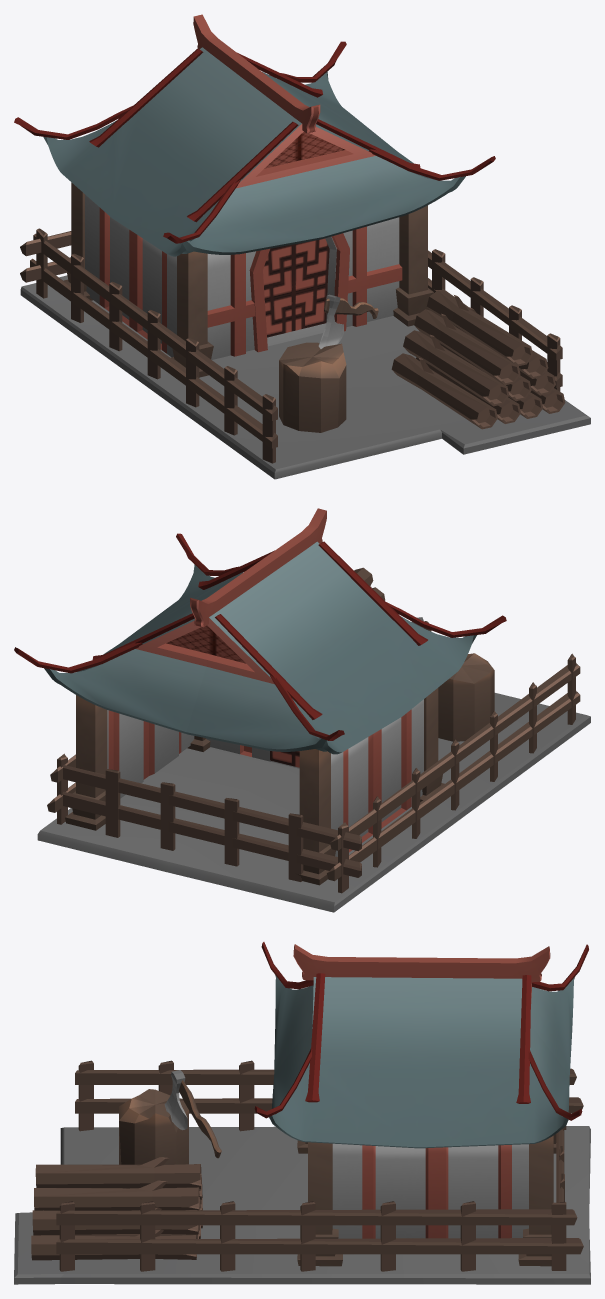
The model's file is sawmill_2lvl.fbx.
The picture shows the model from 3 angles, top to bottom: view 1: azimuth 30°, elevation 25°; view 2: azimuth 150°, elevation 25°; view 3: azimuth 270°, elevation 25°; orthographic projection. The views are drawn at different scales.
Parts seen in each view (by area): view 1: sawmill_2lvl; view 2: sawmill_2lvl; view 3: sawmill_2lvl.
Boxes of the visible parts, bbox=[...] form: sawmill_2lvl: bbox=[14, 14, 590, 479]; sawmill_2lvl: bbox=[14, 508, 590, 912]; sawmill_2lvl: bbox=[14, 942, 590, 1284].
Size of the model in its own units: 4.53 by 3.33 by 6.47.
